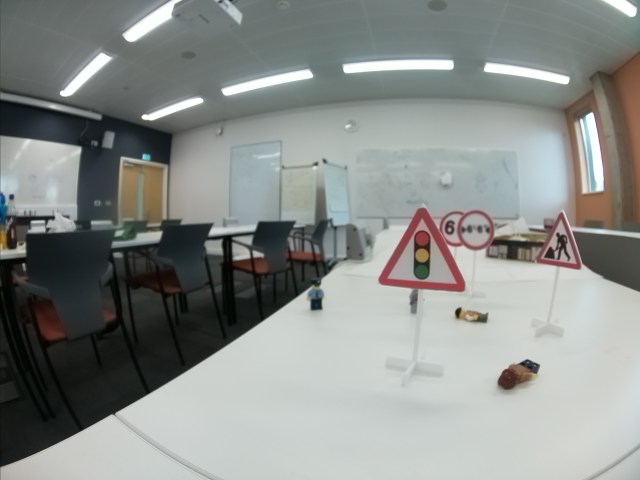60mph: (440, 208, 461, 248)
6ft6: (461, 209, 494, 248)
Lego Man: (496, 355, 542, 391), (453, 304, 490, 323), (307, 278, 328, 311)
Roadworks: (534, 210, 579, 269)
Traffic lights: (377, 208, 462, 293)
